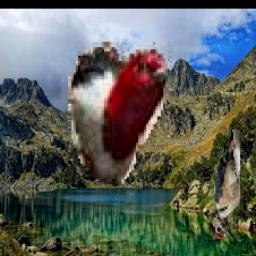Woodpecker: (69, 42, 177, 256), (211, 130, 241, 239)
